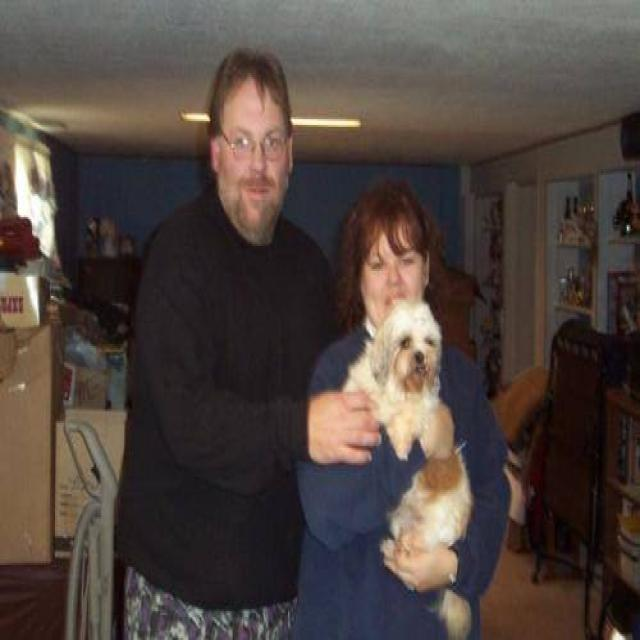dog: (341, 298, 474, 638)
